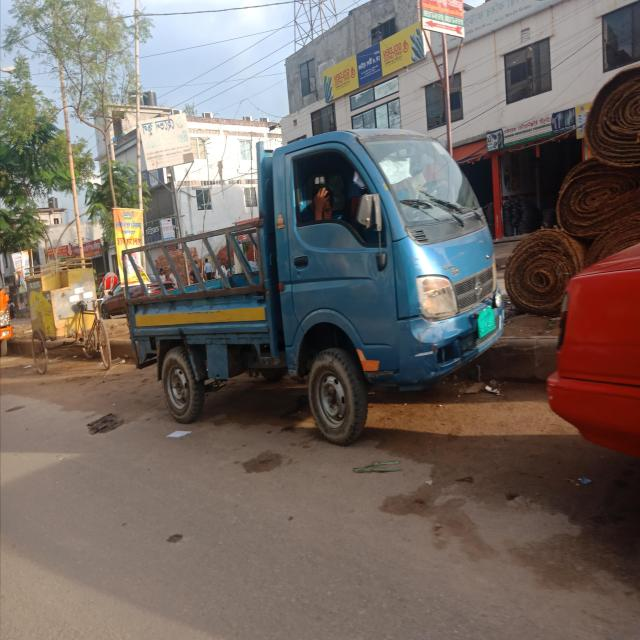truck: (122, 128, 505, 447)
